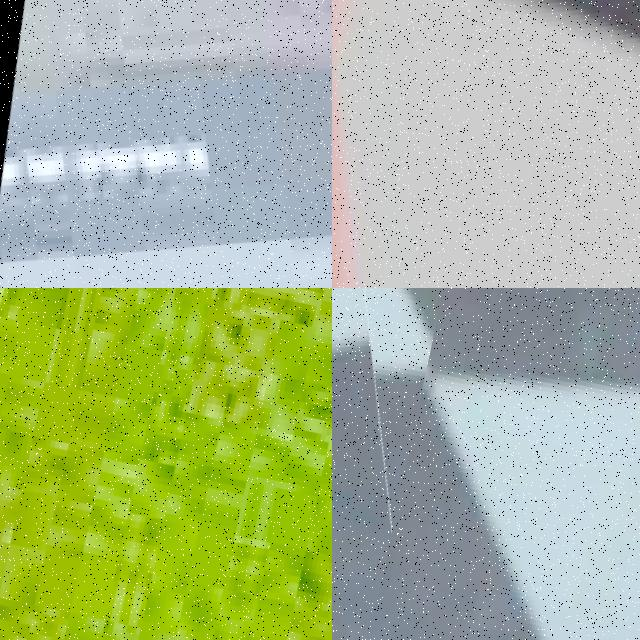drone: (0, 0, 332, 288), (332, 0, 640, 288), (332, 288, 459, 640)
